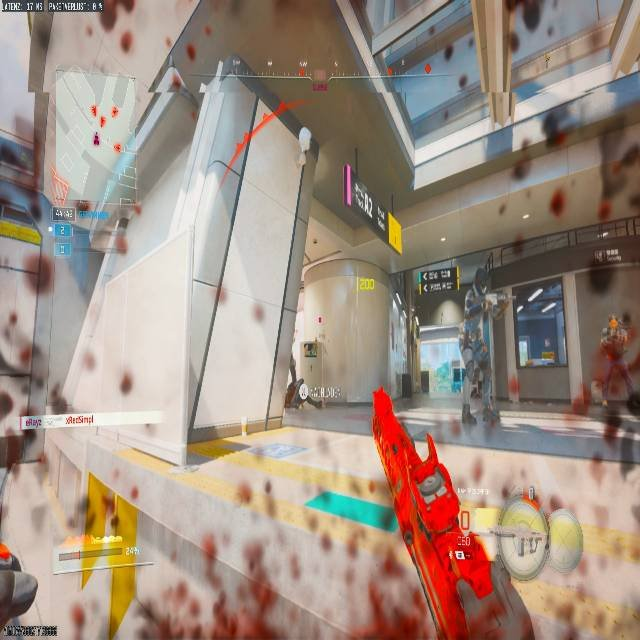head: (607, 314, 618, 327)
player: (460, 266, 511, 417), (590, 313, 640, 455), (598, 313, 635, 406), (460, 358, 497, 435)
